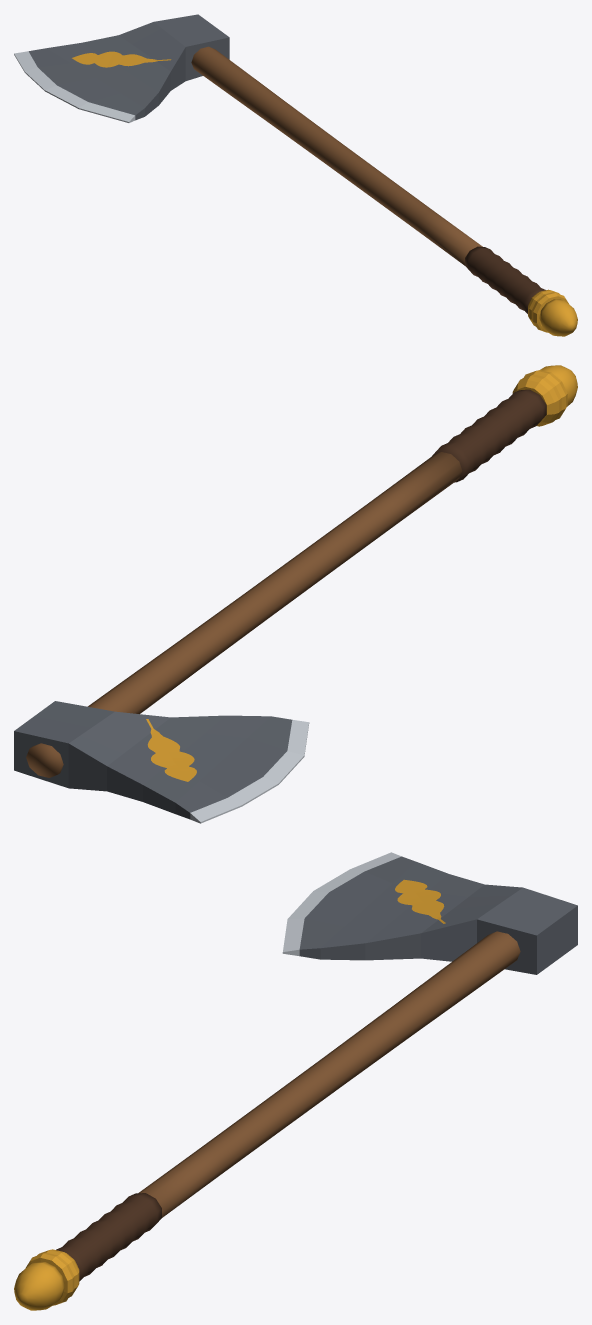
Rendered from WoodcuttingAxe.fbx.
3 views of the same model, one above another, from view 1: azimuth 30°, elevation 25°; view 2: azimuth 150°, elevation 25°; view 3: azimuth 330°, elevation 25° (orthographic). The views are drawn at different scales.
Parts seen in each view (by area): view 1: Head, Haft, Wrap, AcornNut, Leaf, AcornCup; view 2: Head, Haft, Wrap, AcornCup, Leaf, AcornNut; view 3: Head, Haft, Wrap, AcornNut, Leaf, AcornCup.
Part boxes in pixels (x1=…): Head: x1=14, y1=14, x2=229, y2=122; Haft: x1=191, y1=46, x2=482, y2=265; Wrap: x1=465, y1=246, x2=545, y2=313; AcornNut: x1=539, y1=299, x2=577, y2=336; Leaf: x1=72, y1=51, x2=171, y2=67; AcornCup: x1=528, y1=289, x2=568, y2=332; Head: x1=14, y1=701, x2=309, y2=823; Haft: x1=26, y1=452, x2=462, y2=777; Wrap: x1=432, y1=389, x2=546, y2=482; AcornCup: x1=512, y1=370, x2=567, y2=426; Leaf: x1=146, y1=719, x2=196, y2=781; AcornNut: x1=540, y1=365, x2=577, y2=406; Head: x1=282, y1=852, x2=577, y2=974; Haft: x1=138, y1=931, x2=520, y2=1217; Wrap: x1=56, y1=1193, x2=161, y2=1281; AcornNut: x1=14, y1=1262, x2=64, y2=1310; Leaf: x1=395, y1=879, x2=445, y2=923; AcornCup: x1=25, y1=1249, x2=79, y2=1305.
Bounding box in the file's own units: 0.222 × 0.909 × 0.0444.
